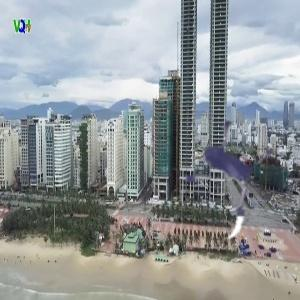drone: (150, 104, 290, 244)
